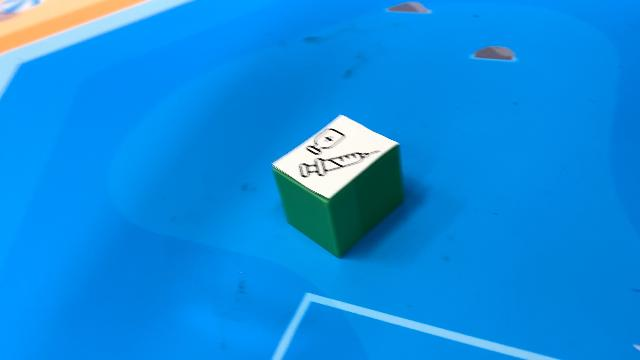syringe: (270, 114, 404, 258)
